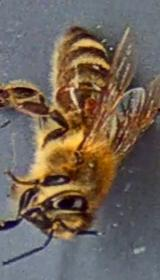varroa_mite: (52, 80, 104, 125)
